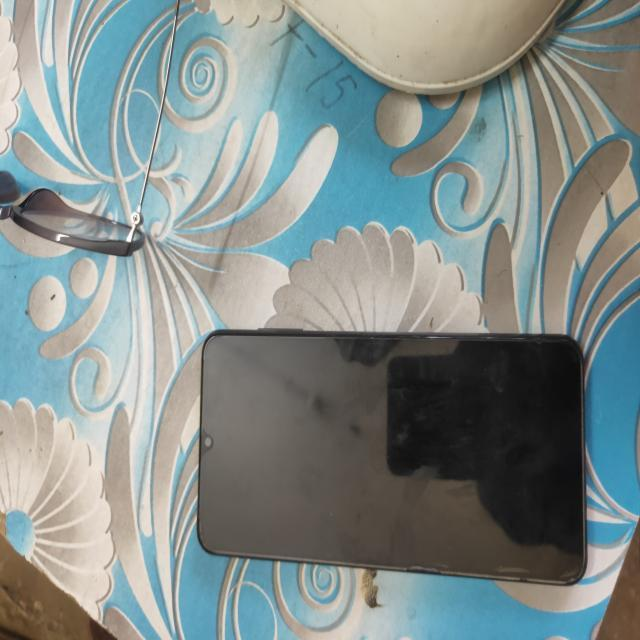Phone: (190, 330, 591, 586)
